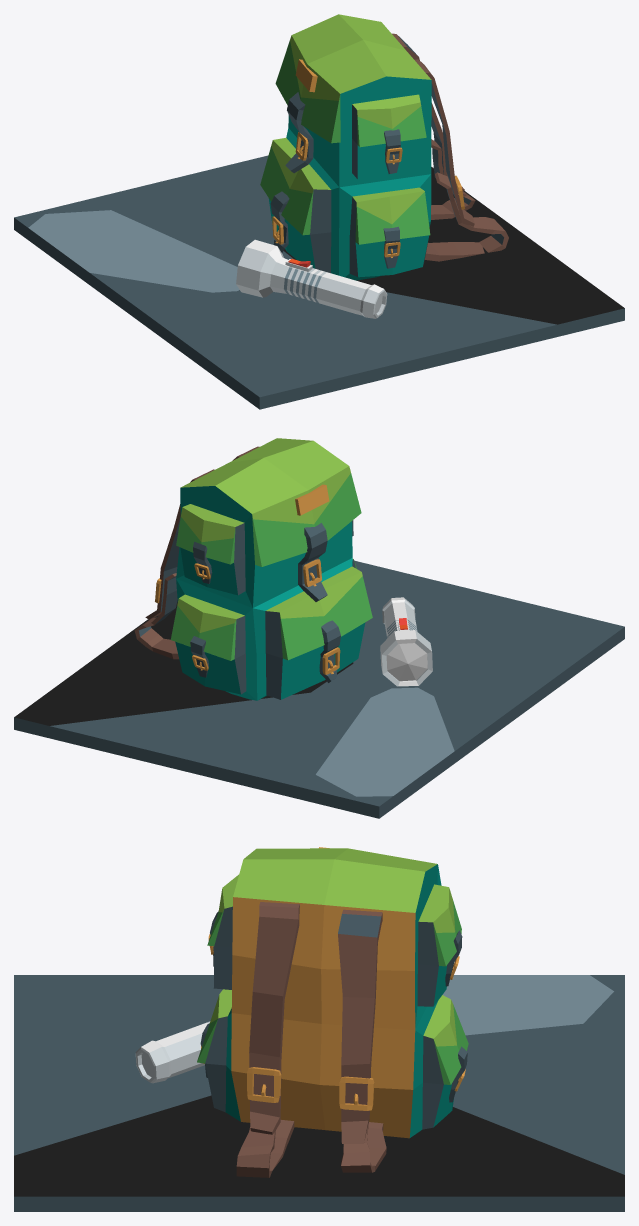
The model's file is Backpack_and_Flashlight.fbx.
3 views of the same model, one above another, from view 1: azimuth 30°, elevation 25°; view 2: azimuth 150°, elevation 25°; view 3: azimuth 270°, elevation 25° (orthographic). The views are drawn at different scales.
Visible parts, largest first — view 1: mesh_454162325, group_23975350, group_1549332179; view 2: mesh_454162325, group_23975350, group_1549332179; view 3: mesh_454162325, group_23975350, group_1549332179.
Part boxes in pixels (left/top/right/bottom): mesh_454162325: left=14, top=155, right=624, bottom=409; group_23975350: left=260, top=14, right=508, bottom=280; group_1549332179: left=236, top=239, right=387, bottom=318; mesh_454162325: left=14, top=560, right=624, bottom=818; group_23975350: left=134, top=438, right=372, bottom=700; group_1549332179: left=380, top=597, right=432, bottom=686; mesh_454162325: left=14, top=975, right=624, bottom=1211; group_23975350: left=197, top=847, right=468, bottom=1177; group_1549332179: left=135, top=1021, right=210, bottom=1083.
Bounding box in the file's own units: 248 × 142 × 289.
